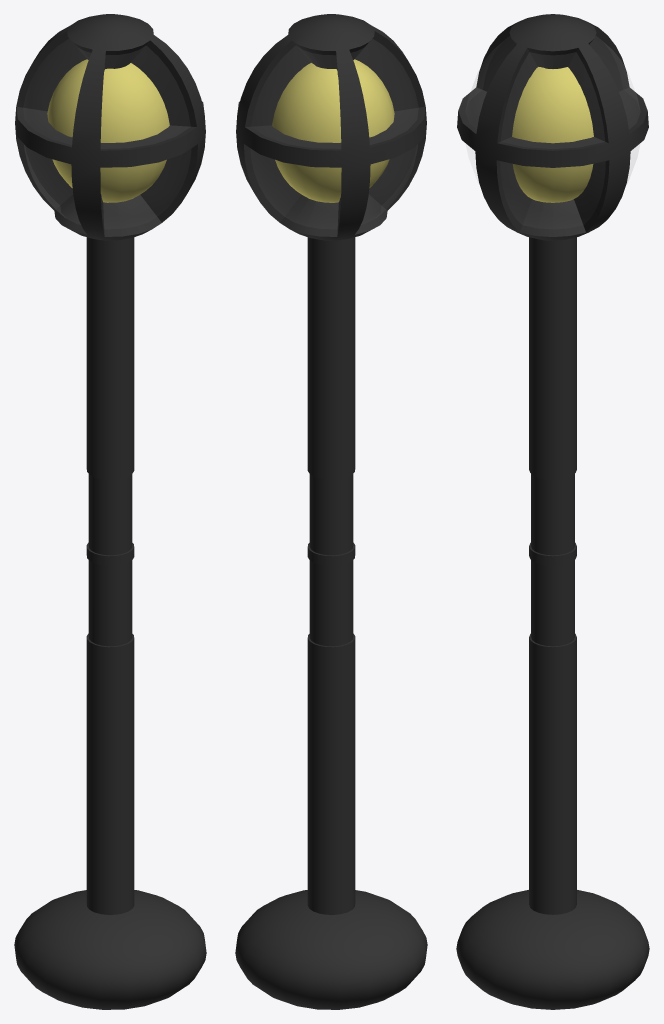
File: lamppost.fbx
3 views of the same model, side by side, from view 1: azimuth 30°, elevation 25°; view 2: azimuth 150°, elevation 25°; view 3: azimuth 270°, elevation 25° (orthographic).
Visible parts, largest first — view 1: pSphere3, pSphere1, pCylinder3, pCylinder2, pSphere4, pCylinder1, pCylinder4; view 2: pSphere3, pSphere1, pCylinder3, pCylinder2, pSphere4, pCylinder1, pCylinder4; view 3: pSphere3, pSphere1, pCylinder3, pCylinder2, pSphere4, pCylinder1, pCylinder4.
Boxes of the visible parts, x1,y1,x2,y2 form: pSphere3: (15, 14, 205, 240); pSphere1: (14, 890, 206, 1009); pCylinder3: (86, 633, 134, 914); pCylinder2: (86, 237, 134, 479); pSphere4: (47, 59, 169, 202); pCylinder1: (88, 474, 132, 646); pCylinder4: (86, 542, 134, 565); pSphere3: (236, 14, 426, 240); pSphere1: (235, 890, 427, 1009); pCylinder3: (307, 633, 355, 914); pCylinder2: (307, 237, 355, 479); pSphere4: (272, 59, 394, 202); pCylinder1: (309, 474, 353, 646); pCylinder4: (307, 542, 355, 565); pSphere3: (457, 14, 648, 240); pSphere1: (456, 890, 649, 1009); pCylinder3: (529, 633, 576, 914); pCylinder2: (529, 237, 576, 479); pSphere4: (512, 67, 593, 202); pCylinder1: (531, 474, 574, 646); pCylinder4: (529, 542, 576, 565).
Size of the model in its own units: 6.15 by 34.16 by 6.15.
